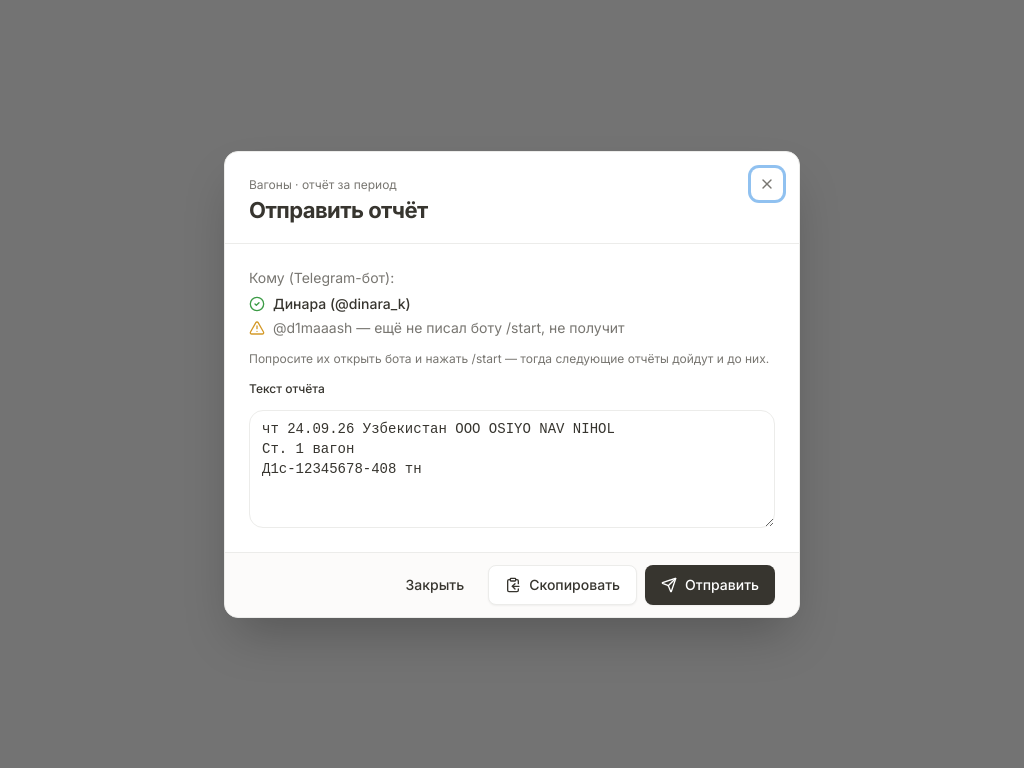
WagonReportModal › отчёт за период — та же очередь, повтор нажатия с тем же ключом
The image size is (1024, 768).
Click the button "Отправить". click: click(710, 584)
box: left=645, top=564, right=775, bottom=604
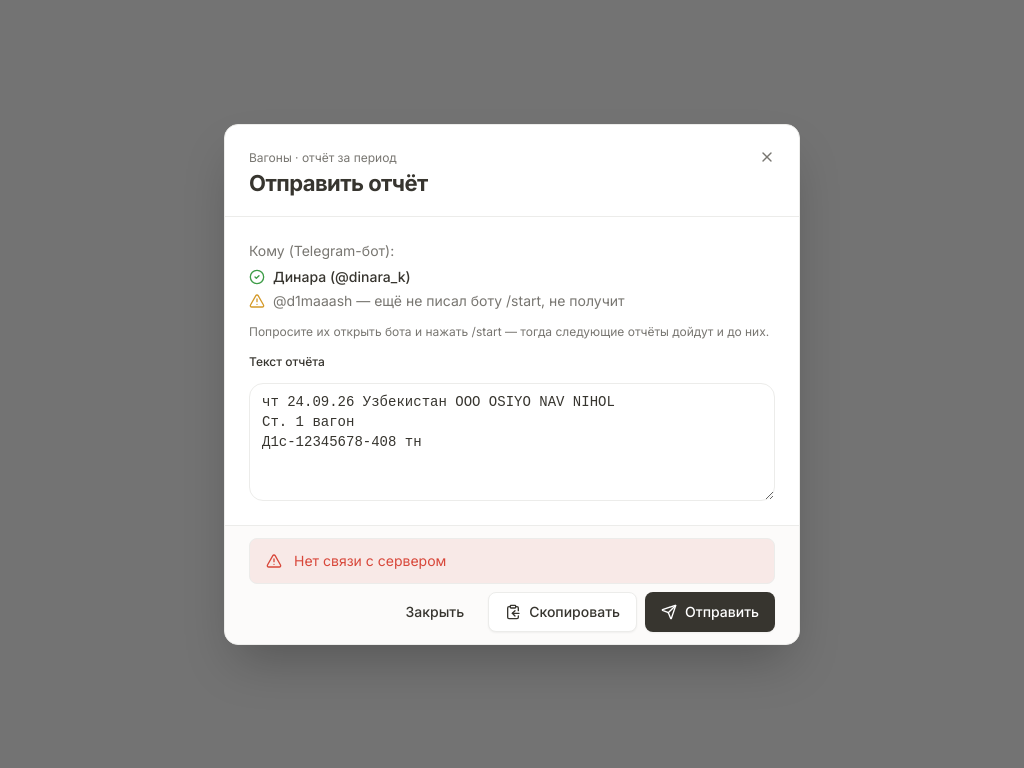
Result: the message reads "Нет связи с сервером" at left=294, top=552, right=446, bottom=568
Click the button "Отправить". click: click(710, 612)
box: left=645, top=592, right=775, bottom=632
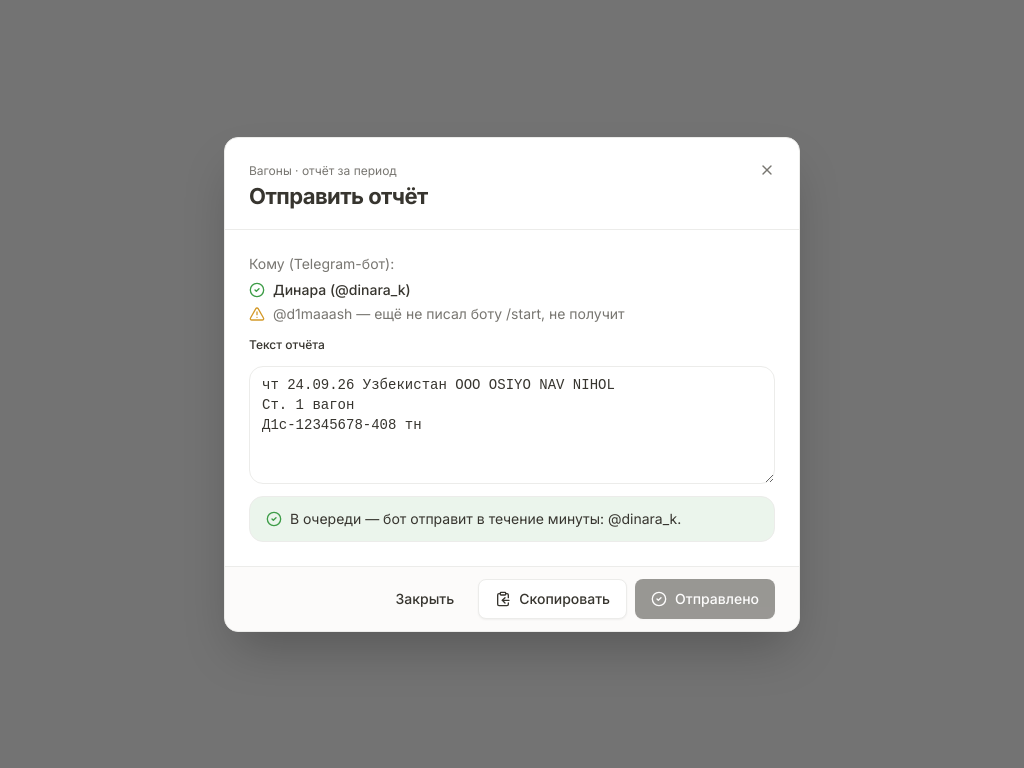
Result: the message "В очереди — бот отправит в течение минуты: @dinara_k." is shown at left=249, top=496, right=775, bottom=542
